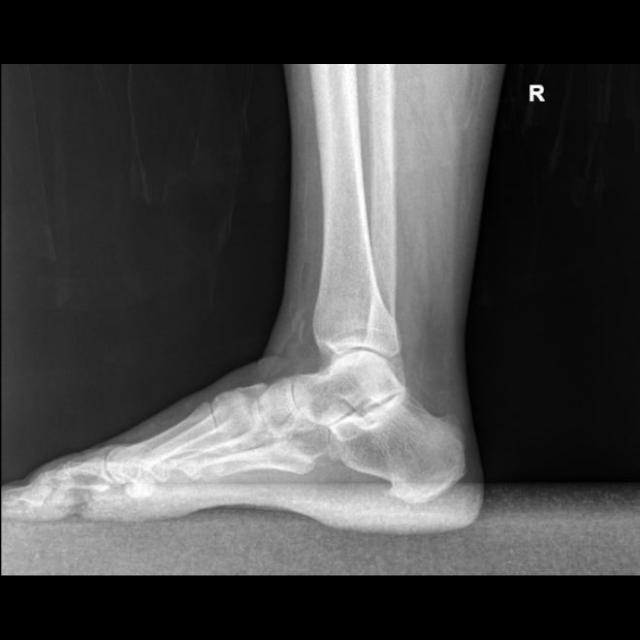a: (332, 393, 466, 506)
b: (257, 380, 314, 436)
c: (103, 401, 217, 485)
